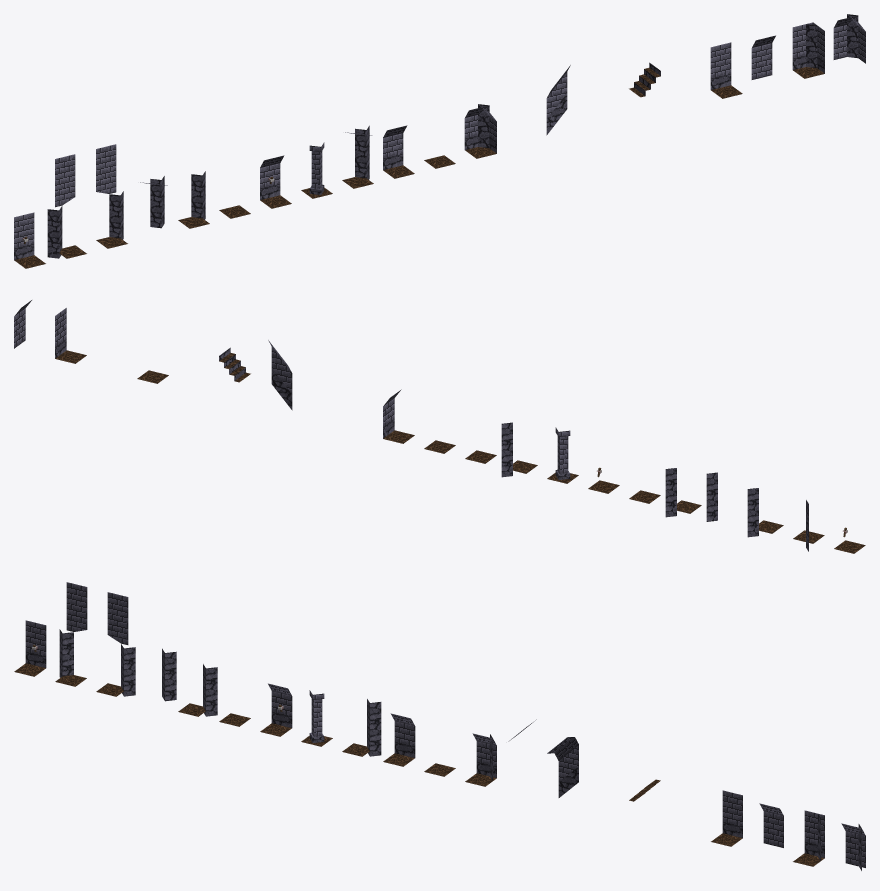
Rendered from Tileset.glb.
The picture shows the model from 3 angles, top to bottom: view 1: azimuth 30°, elevation 25°; view 2: azimuth 150°, elevation 25°; view 3: azimuth 330°, elevation 25°; orthographic projection.
Visible parts, largest first — view 1: CornerOut4-col, CornerOut3-col, CornerIn1-col, CornerIn0-col, CornerIn2-col, Wall2-col, Wall4-col, Wall0-col, Wall1-col, CornerOut0-col, CornerOut1-col, StairWall0-col (+4 smaller); view 2: StairWall1-col, CornerOut0-col, CornerOut1-col, CornerOut3-col, CornerIn1-col, Pillar0-col, CornerIn0-col, CornerOut2-col, Stair0; view 3: CornerOut3-col, CornerOut4-col, Wall4-col, Wall2-col, CornerIn1-col, StairWall0-col, Wall0-col, Wall1-col, CornerIn0-col, CornerOut0-col, CornerOut1-col, CornerIn2-col (+3 smaller).
Part boxes in pixels (x1,y1,x2,y2): CornerOut4-col: (47,154,86,258); CornerOut3-col: (96,144,127,248); CornerIn1-col: (792,22,824,78); CornerIn0-col: (464,104,496,158); CornerIn2-col: (833,14,865,63); Wall2-col: (710,42,742,98); Wall4-col: (14,212,45,268); Wall0-col: (383,125,414,178); Wall1-col: (260,155,291,208); CornerOut0-col: (342,125,373,188); CornerOut1-col: (178,171,209,228); StairWall0-col: (546,65,570,135); StairWall1-col: (268,340,292,410); CornerOut0-col: (501,422,537,477); CornerOut1-col: (665,468,701,517); CornerOut3-col: (747,488,783,537); CornerIn1-col: (55,308,86,363); Pillar0-col: (547,427,578,483); CornerIn0-col: (383,389,414,443); CornerOut2-col: (706,472,717,521); Stair0: (219,347,250,382); CornerOut3-col: (96,592,135,696); CornerOut4-col: (55,582,87,686); Wall4-col: (14,620,46,676); Wall2-col: (711,790,742,846); CornerIn1-col: (793,810,824,866); StairWall0-col: (547,737,578,797); Wall0-col: (383,713,415,766); Wall1-col: (260,683,292,736); CornerIn0-col: (465,733,496,786); CornerOut0-col: (342,699,381,756); CornerOut1-col: (178,664,217,716); CornerIn2-col: (841,823,865,870).
Bounding box in the file's own units: 82.01 × 9 × 2.71.
5 materials, 4 textured.
